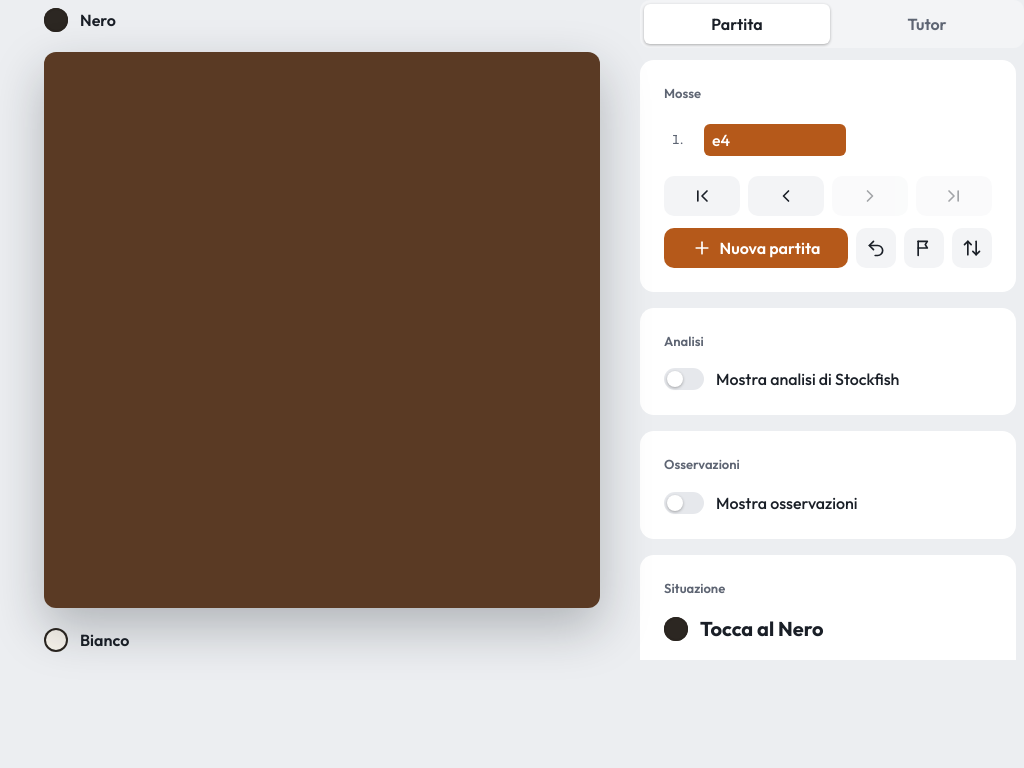
PlayPage › accende l’analisi e mostra la barra di valutazione
Click the switch labelled "Mostra analisi di Stockfish": {"x": 782, "y": 379} [664,368,899,390]
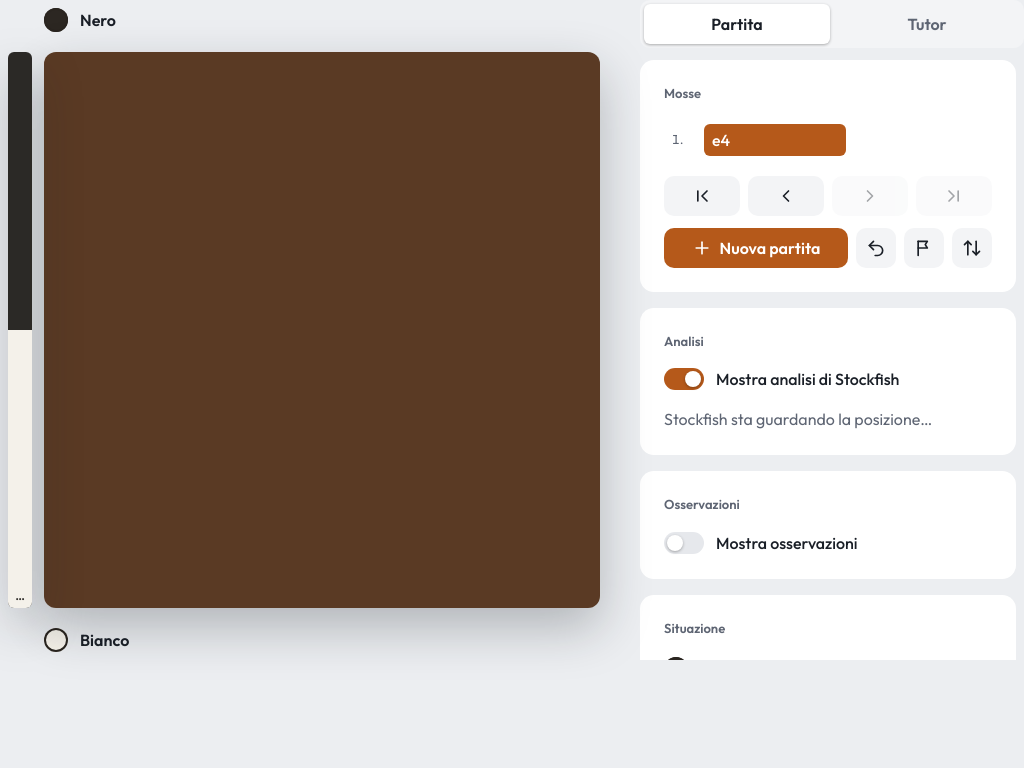
Check: the element named "Valutazione della posizione" is shown, box [8,52,32,608]
